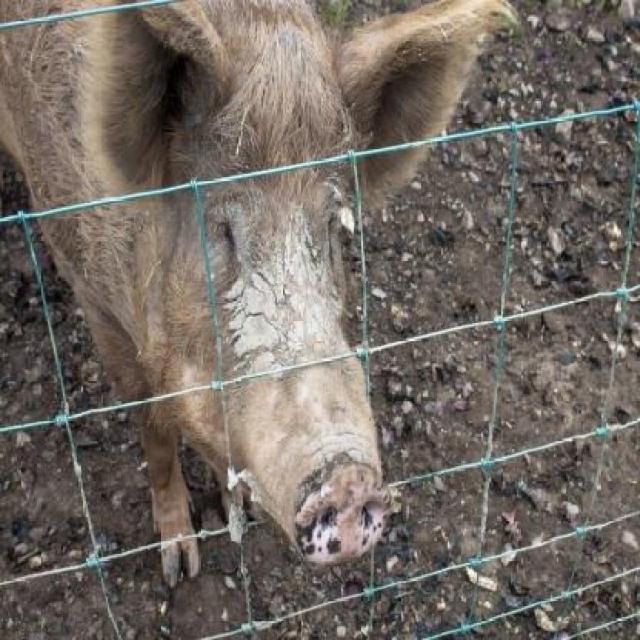Boar: (0, 0, 520, 589)
